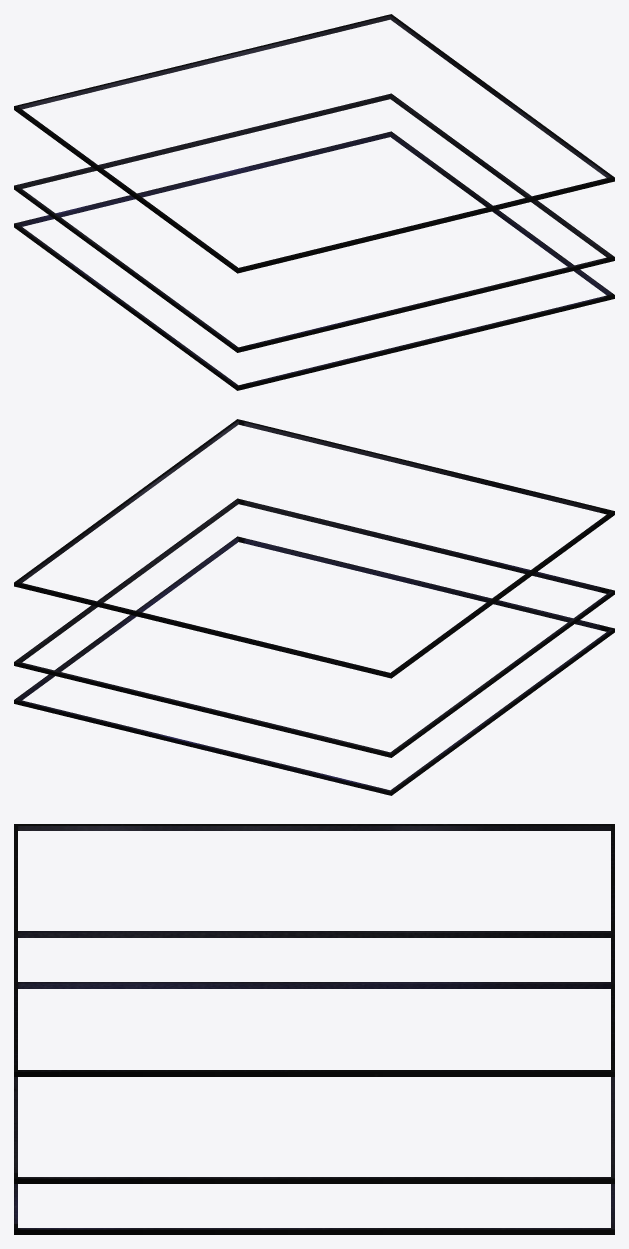
The model's file is ey_verse_side_rails.glb.
3 views of the same model, one above another, from view 1: azimuth 30°, elevation 25°; view 2: azimuth 150°, elevation 25°; view 3: azimuth 270°, elevation 25° (orthographic). The views are drawn at different scales.
Parts seen in each view (by area): view 1: ey_verse_side_rails; view 2: ey_verse_side_rails; view 3: ey_verse_side_rails.
Boxes of the visible parts, <box> form: ey_verse_side_rails: <box>14,14,614,390</box>; ey_verse_side_rails: <box>14,419,614,795</box>; ey_verse_side_rails: <box>14,824,614,1234</box>.
Size of the model in its own units: 11.63 by 3.57 by 11.92.
Materials: 1 (1 with a texture image).
